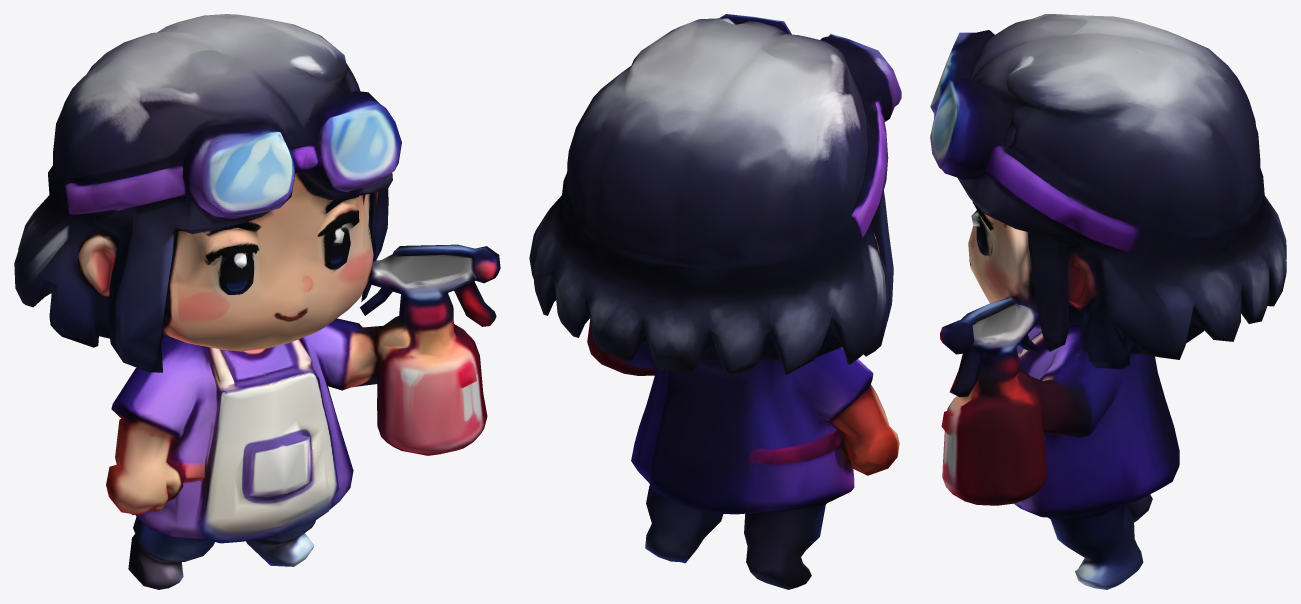
File: SK_hero_spray_tripo.glb
3 renders of one model, left to right at view 1: azimuth 30°, elevation 25°; view 2: azimuth 150°, elevation 25°; view 3: azimuth 270°, elevation 25°, orthographic. The views are drawn at different scales.
Parts seen in each view (by area): view 1: SK_hero_spray_tripo; view 2: SK_hero_spray_tripo; view 3: SK_hero_spray_tripo.
Boxes of the visible parts, x1=… form: SK_hero_spray_tripo: x1=14, y1=14, x2=500, y2=589; SK_hero_spray_tripo: x1=529, y1=14, x2=901, y2=589; SK_hero_spray_tripo: x1=930, y1=14, x2=1286, y2=589.
Size of the model in its own units: 0.8687 by 1.2 by 0.7382.
1 material, 1 textured.
